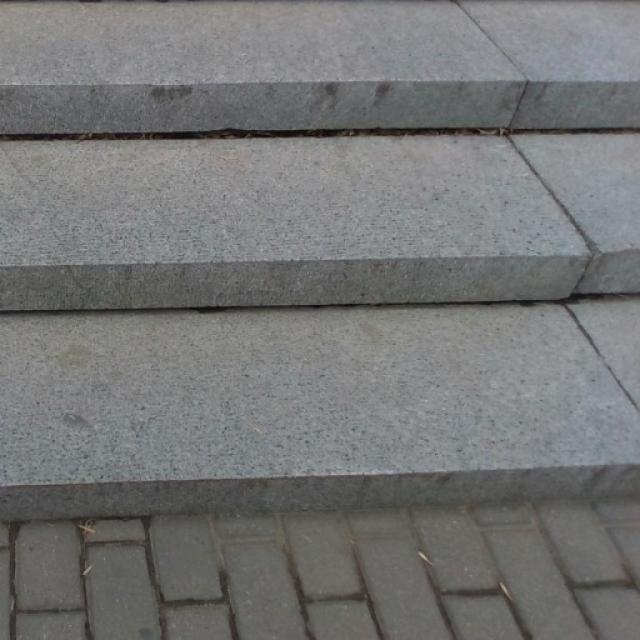Stairs: (0, 0, 639, 515)
